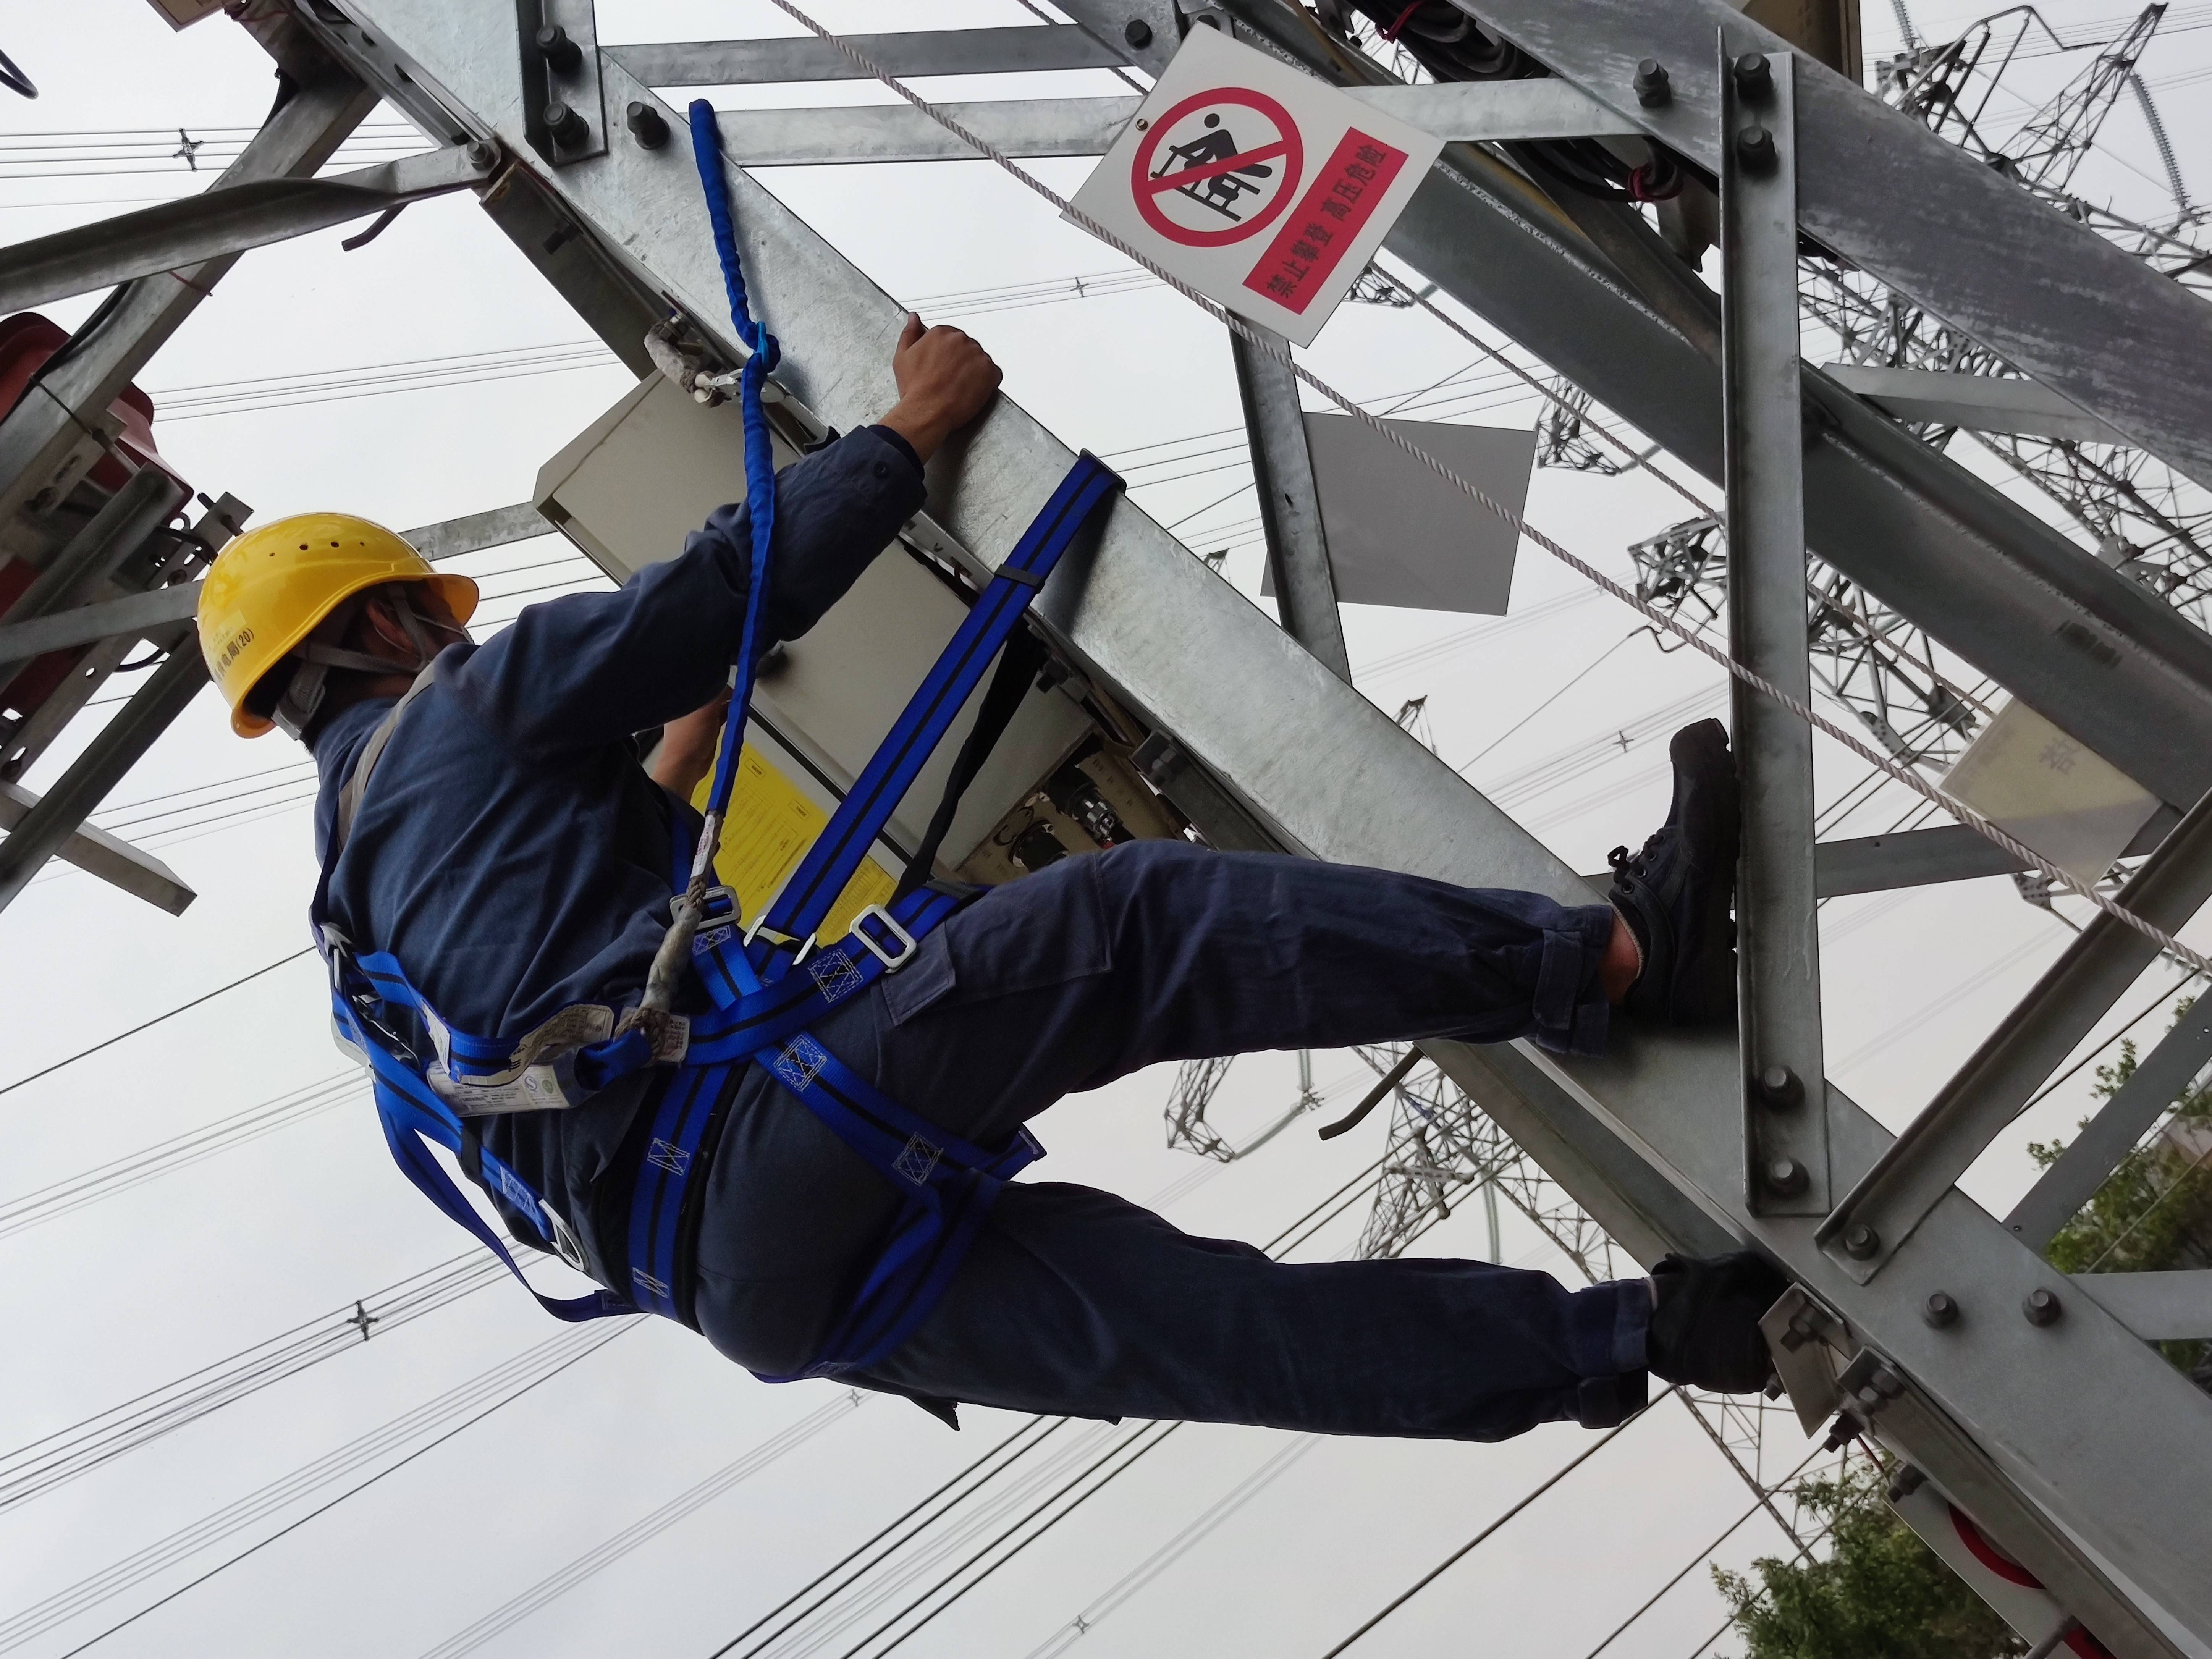downsuit: (888, 833, 1649, 1432)
upsuit: (301, 415, 899, 1387)
